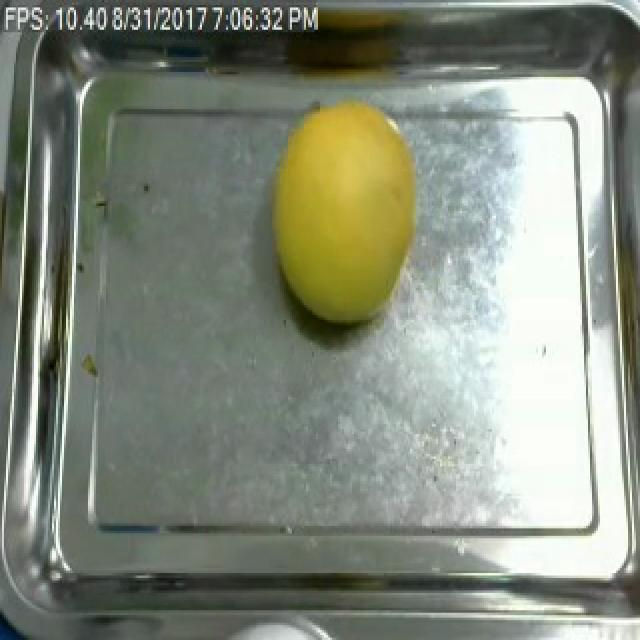fruit: (258, 92, 430, 340)
